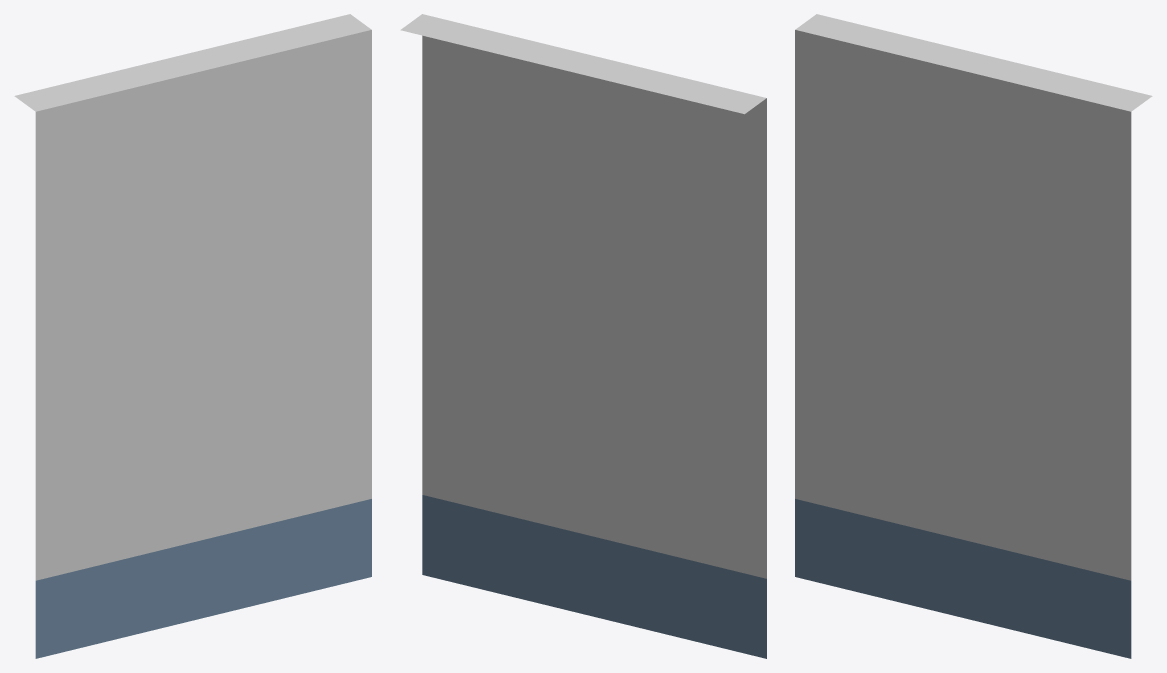
File: M_Wall225White80-2.FBX
3 renders of one model, left to right at view 1: azimuth 30°, elevation 25°; view 2: azimuth 150°, elevation 25°; view 3: azimuth 330°, elevation 25°, orthographic. The views are drawn at different scales.
Parts seen in each view (by area): view 1: M_Wall225White80-2; view 2: M_Wall225White80-2; view 3: M_Wall225White80-2.
Boxes of the visible parts, box(x1,y1,x2,y2) form: M_Wall225White80-2: box(14, 14, 371, 658); M_Wall225White80-2: box(400, 14, 766, 658); M_Wall225White80-2: box(795, 14, 1152, 658).
Bounding box in the file's own units: 2.25 × 3.5 × 0.25.
